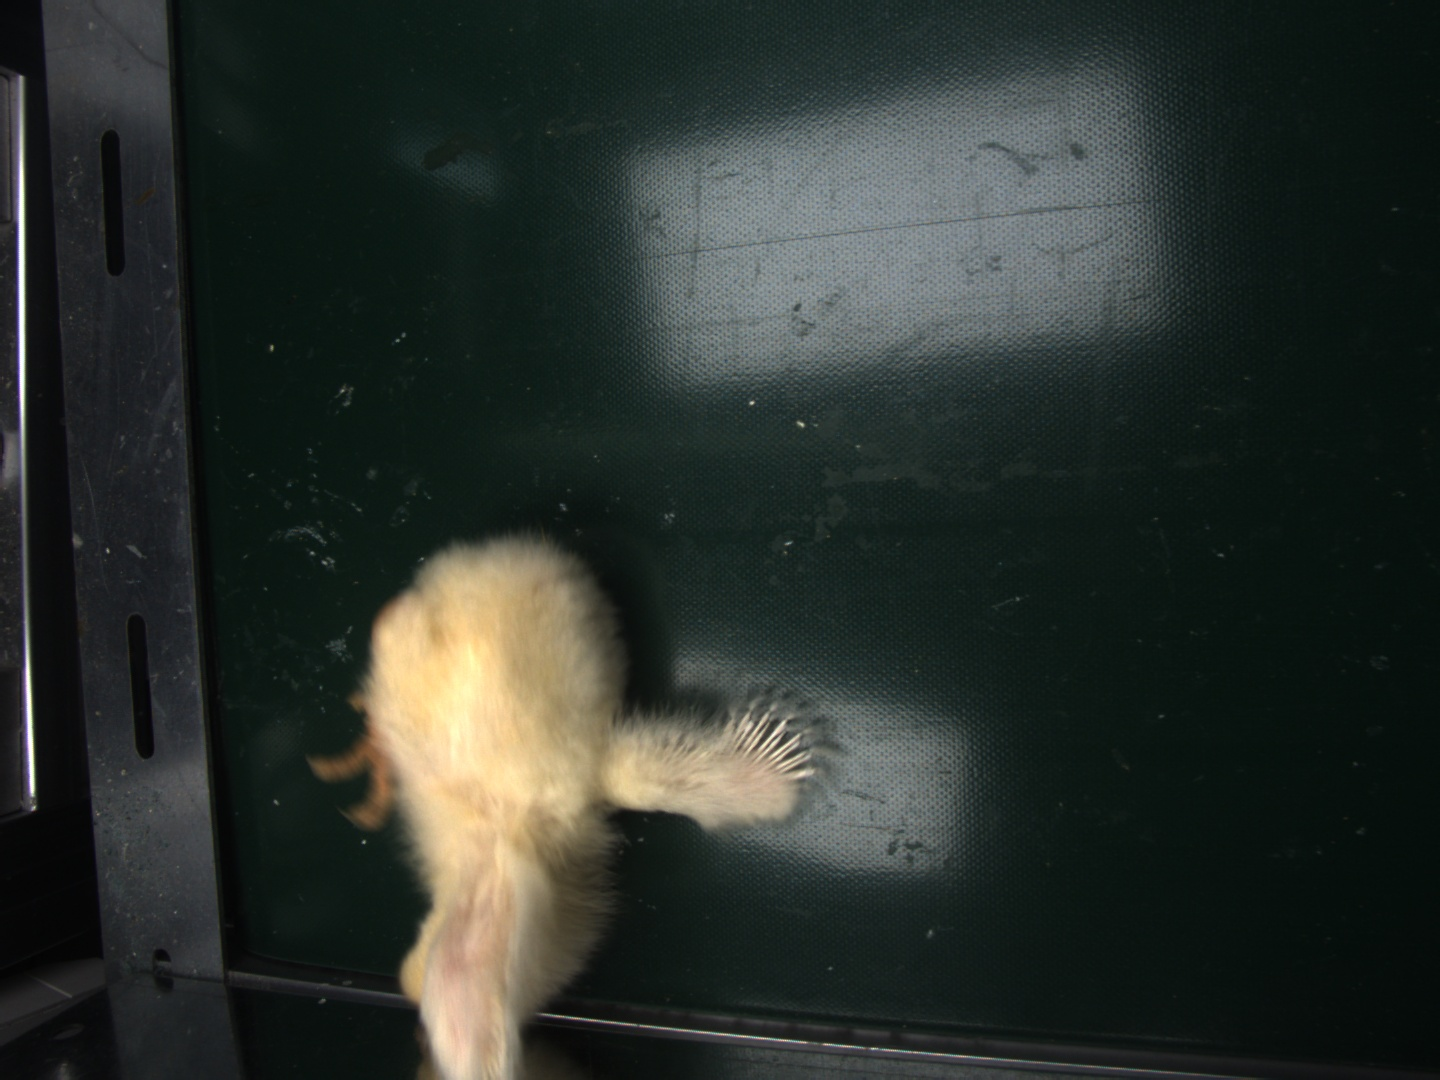male: (725, 708, 812, 781)
